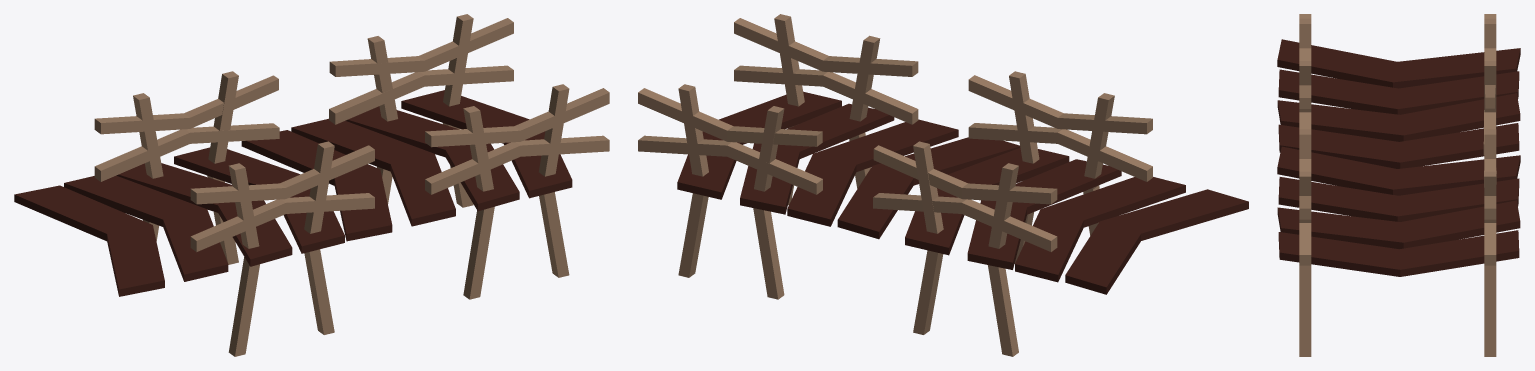
Rendered from deck.fbx.
The picture shows the model from 3 angles, left to right: view 1: azimuth 30°, elevation 25°; view 2: azimuth 150°, elevation 25°; view 3: azimuth 270°, elevation 25°; orthographic projection. The views are drawn at different scales.
Parts seen in each view (by area): view 1: pier; view 2: pier; view 3: pier.
Boxes of the visible parts, x1,y1,x2,y2 form: pier: [14, 14, 609, 356]; pier: [638, 14, 1248, 356]; pier: [1277, 14, 1520, 356].
Size of the model in its own units: 1221 by 1000 by 2801.
